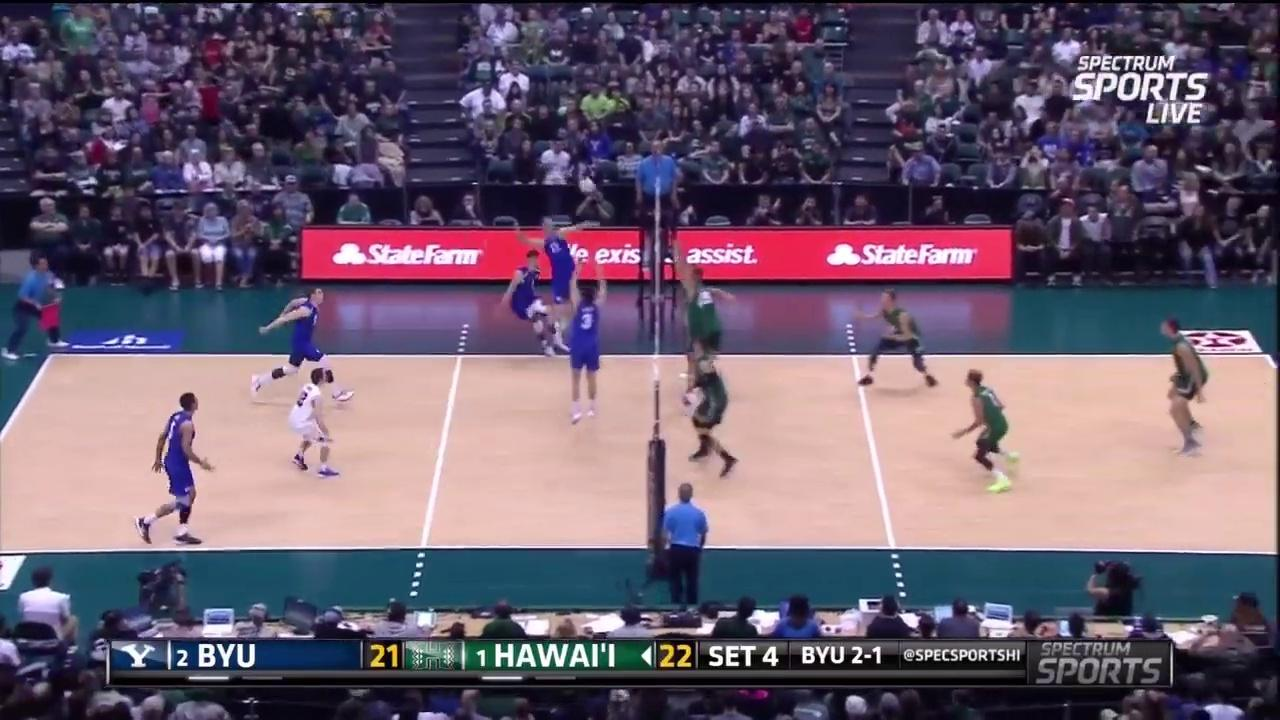player: (139, 394, 212, 545), (260, 290, 355, 406), (679, 341, 746, 481), (852, 287, 937, 386), (523, 209, 589, 324), (958, 371, 1019, 493), (1160, 318, 1211, 454), (282, 367, 347, 472), (566, 265, 606, 427), (508, 248, 566, 358), (684, 265, 731, 398), (674, 258, 705, 400)
refree: (6, 256, 69, 364), (662, 480, 710, 609), (636, 134, 681, 251)
